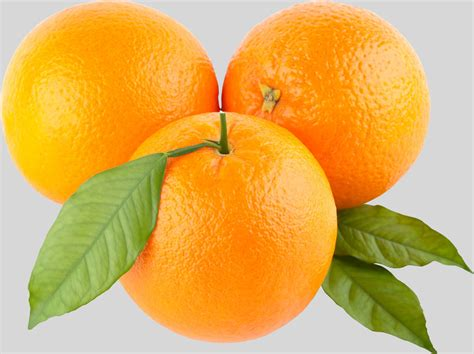orange: (102, 107, 343, 347), (214, 1, 434, 216), (1, 1, 220, 216)
